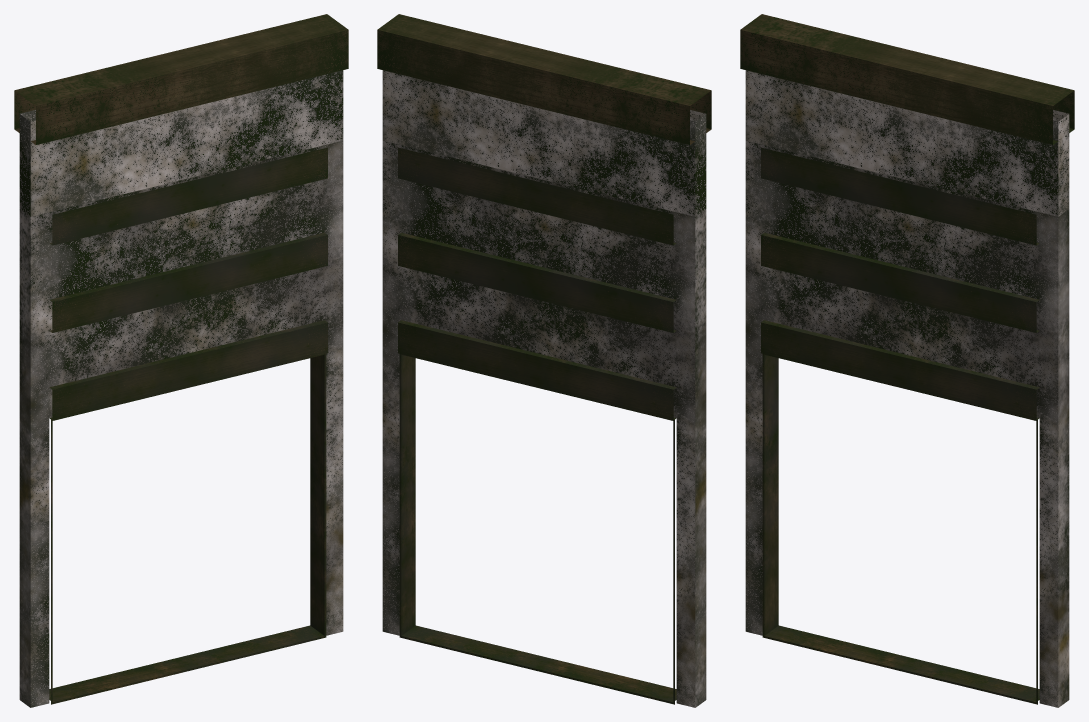
File: shrine_wall_3.fbx
3 renders of one model, left to right at view 1: azimuth 30°, elevation 25°; view 2: azimuth 150°, elevation 25°; view 3: azimuth 330°, elevation 25°, orthographic.
Visible parts, largest first — view 1: shrine_wall_3; view 2: shrine_wall_3; view 3: shrine_wall_3.
Boxes of the visible parts, <box> form: shrine_wall_3: <box>14,14,348,707</box>; shrine_wall_3: <box>377,14,711,707</box>; shrine_wall_3: <box>740,14,1074,707</box>.
Bounding box in the file's own units: 330 × 611 × 39.4.
2 materials, 2 textured.
